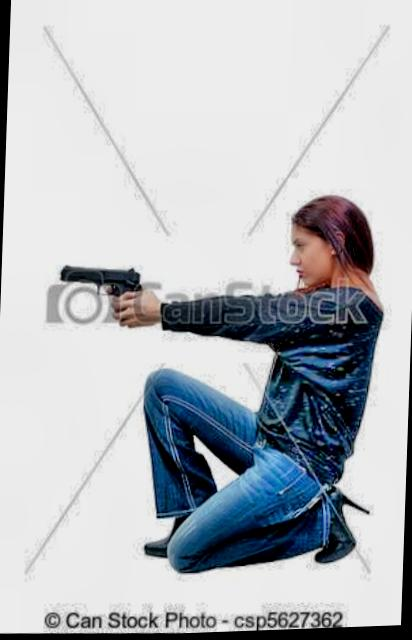pistol: (57, 261, 142, 330)
